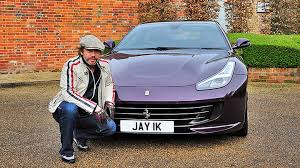number_plate: (117, 119, 186, 135)
